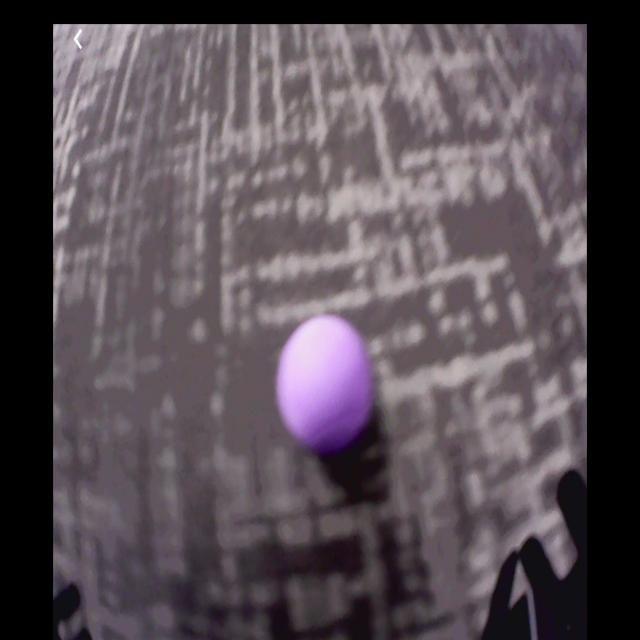ball: (277, 316, 371, 450)
